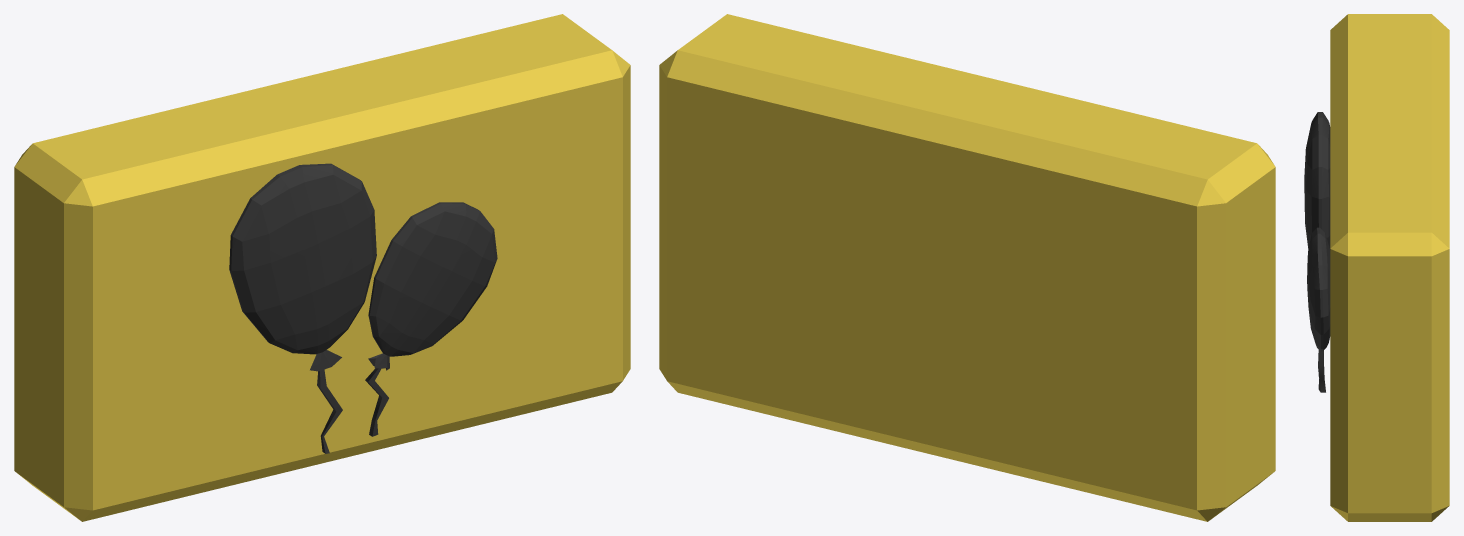
File: start button v2 w balloons.fbx
3 views of the same model, side by side, from view 1: azimuth 30°, elevation 25°; view 2: azimuth 150°, elevation 25°; view 3: azimuth 270°, elevation 25° (orthographic). The views are drawn at different scales.
Visible parts, largest first — view 1: polySurface7; view 2: polySurface7; view 3: polySurface7.
Boxes of the visible parts, x1,y1,x2,y2 form: polySurface7: [14, 14, 630, 521]; polySurface7: [659, 14, 1275, 521]; polySurface7: [1304, 14, 1449, 521].
Bounding box in the file's own units: 99.29 × 57.32 × 26.1.
